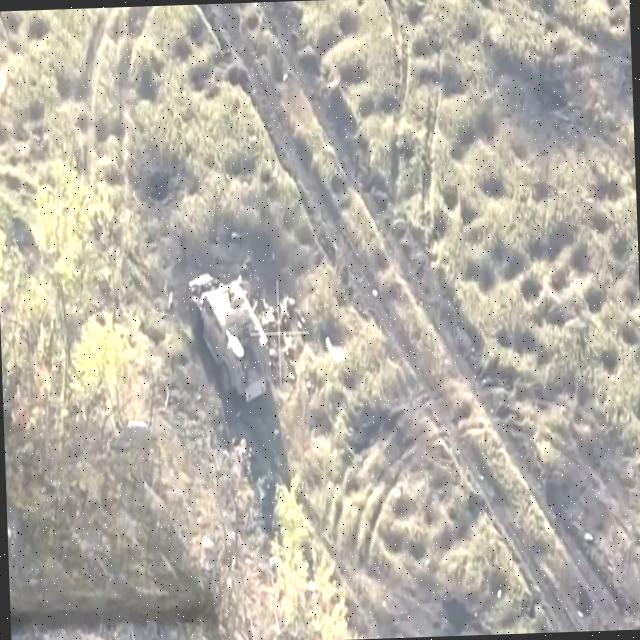Vehicle: (188, 267, 273, 409)
